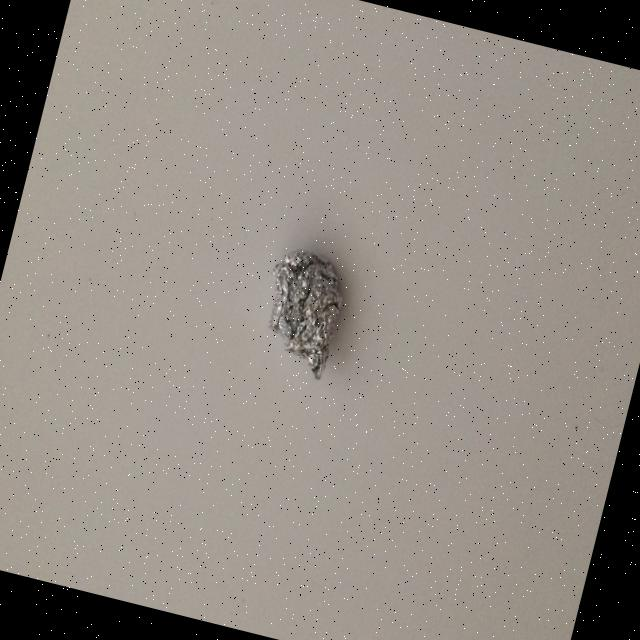metal: (248, 242, 352, 381)
